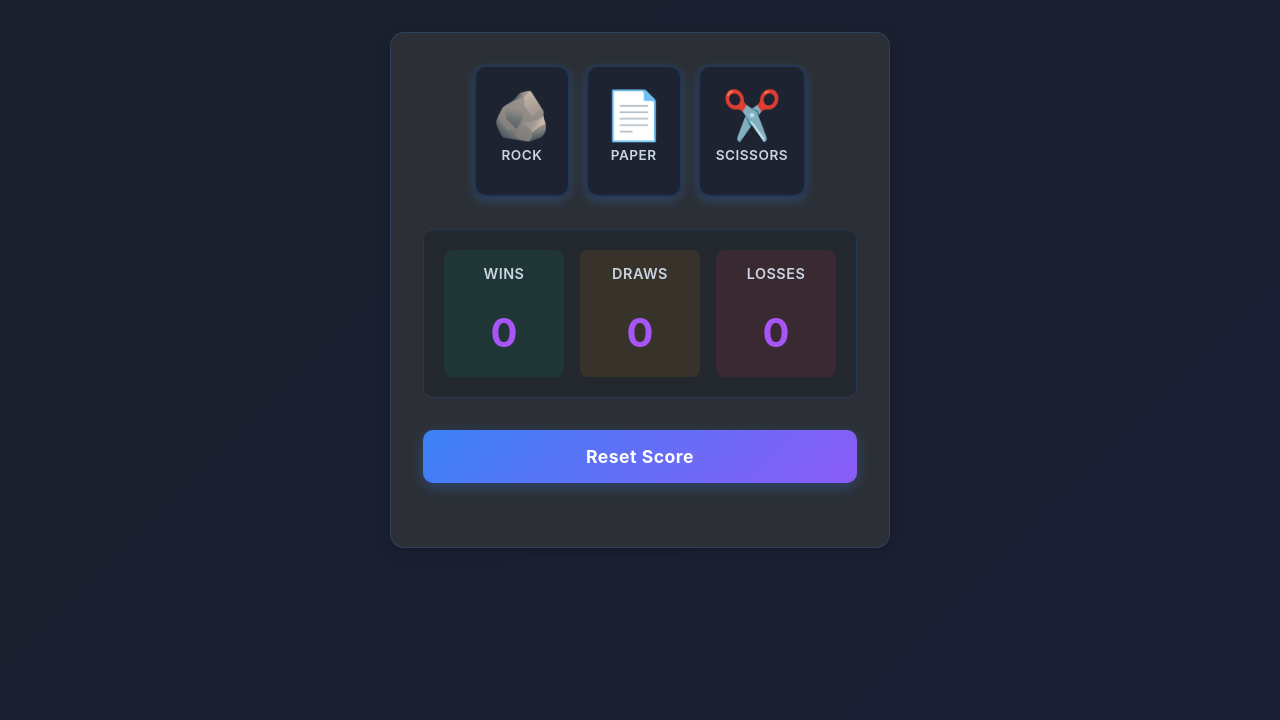
Test: RockPaperScissors › shows result after playing
Click the button with aria-label "play rock" at coordinates (522, 131), box x1=474 y1=65 x2=570 y2=197
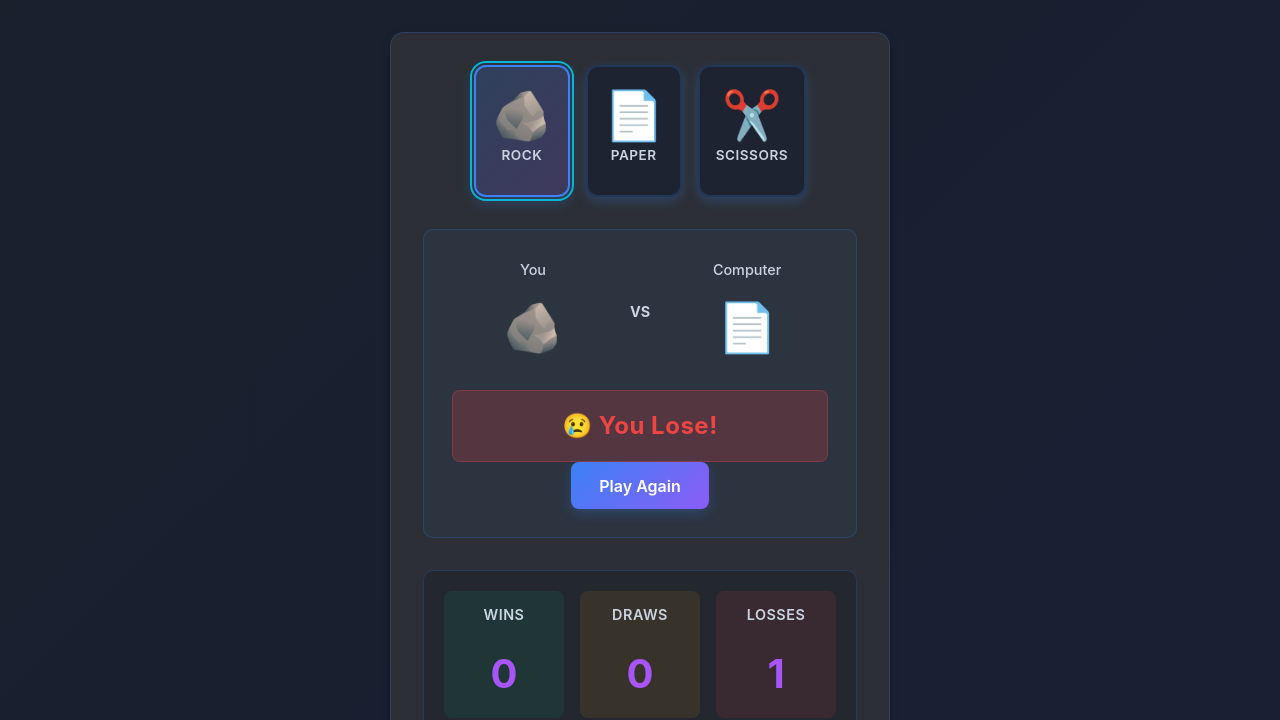
expect the text "😢 You Lose!" is shown: met, box x1=452 y1=390 x2=828 y2=462
